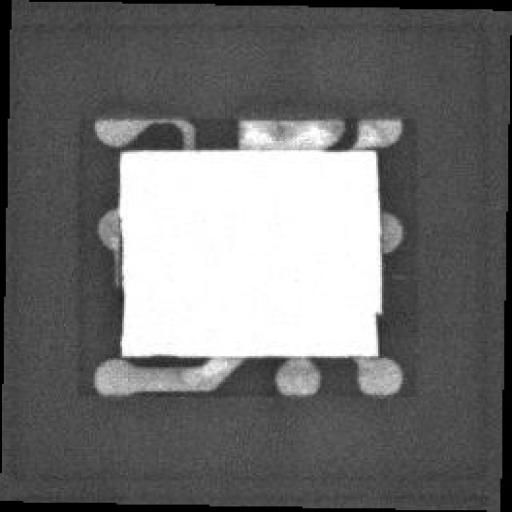DIE_BROKEN: (116, 215, 128, 356), (369, 310, 380, 354)
